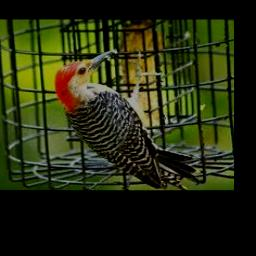Woodpecker: (54, 48, 196, 189)
